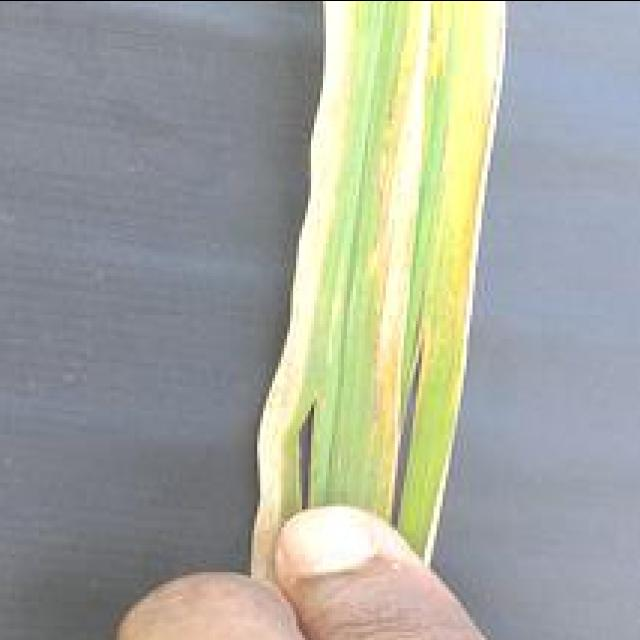Bacterial_Leaf_Blight: (279, 0, 488, 557)
